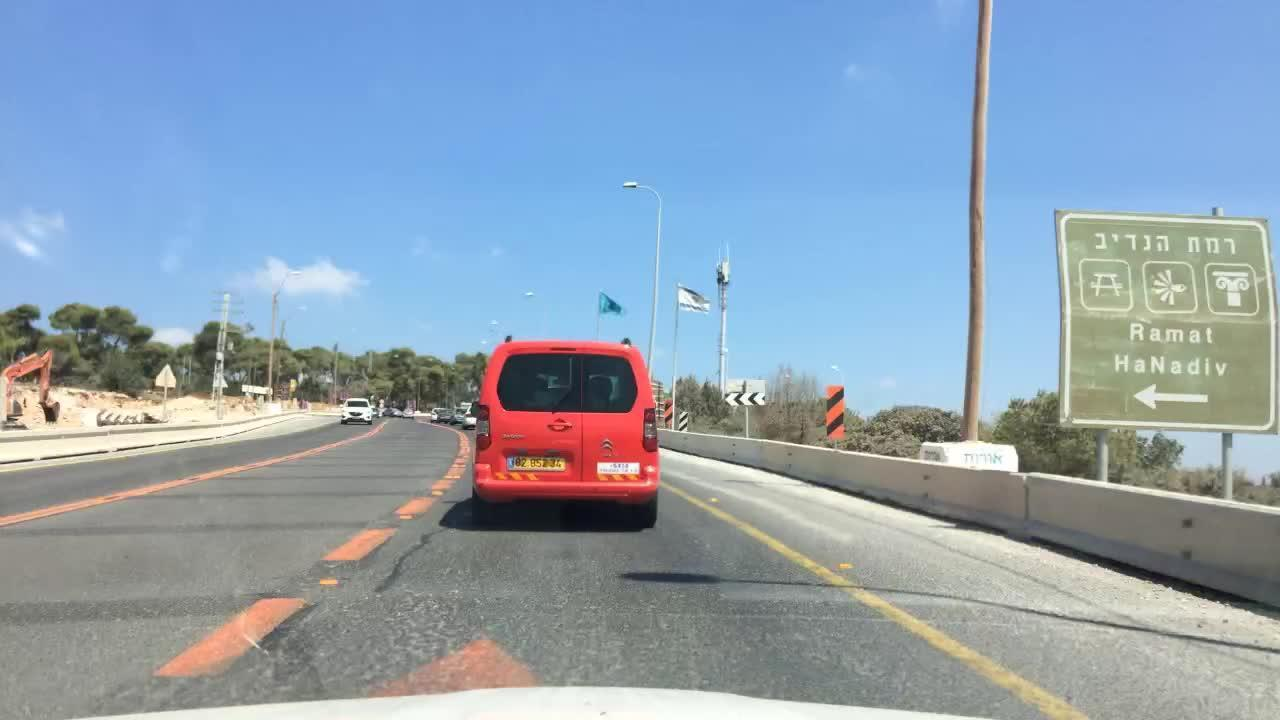Citroen: (598, 436, 615, 453)
